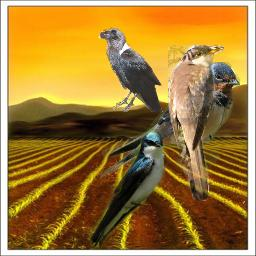Crow: (98, 27, 163, 112)
Cuckoo: (168, 45, 224, 201)
Swallow: (100, 62, 240, 180), (87, 129, 168, 251)
